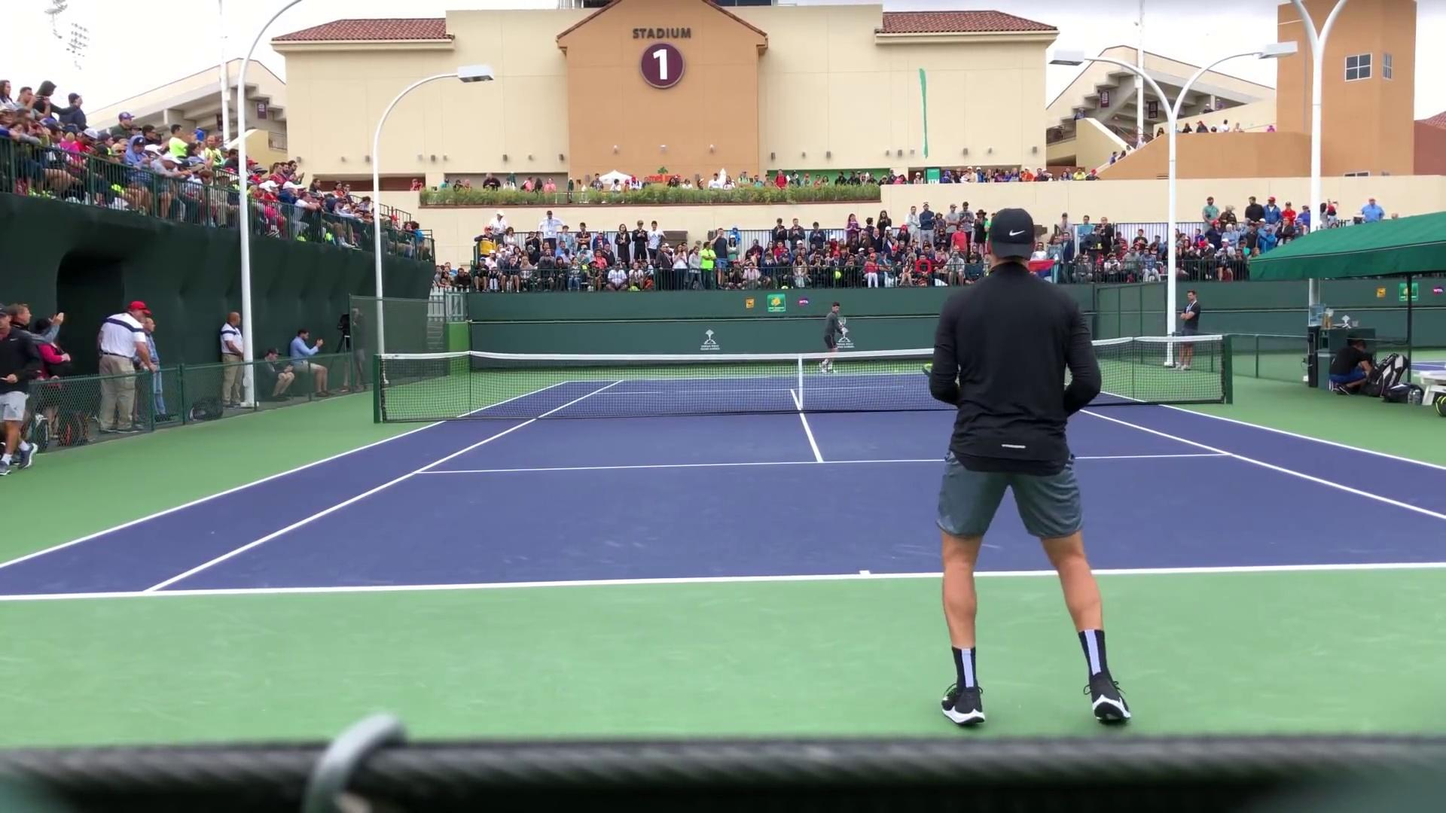ball: (892, 367, 899, 374)
